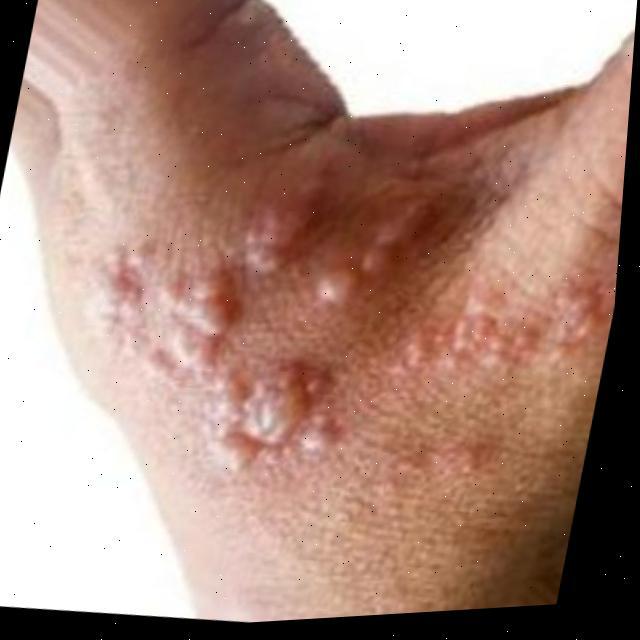Shingles: (56, 195, 381, 480), (432, 296, 597, 378)
